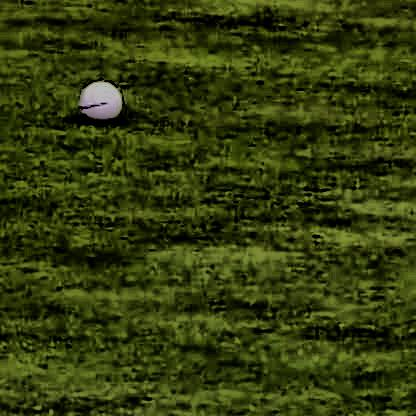golfball: (77, 78, 121, 120)
